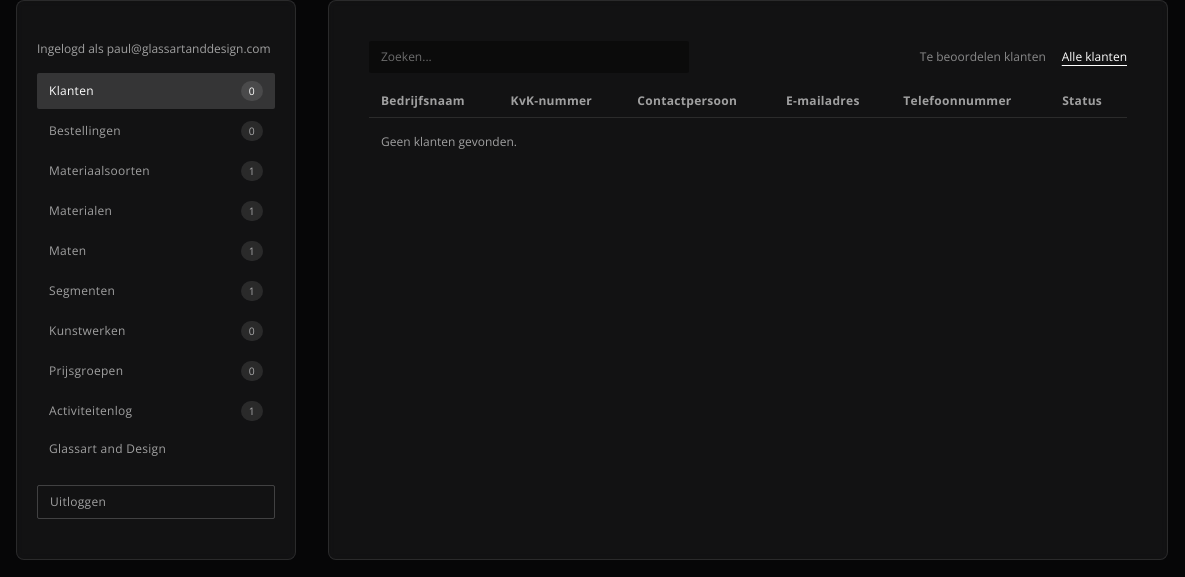
Test case: BeheerShell › shows the Activiteit section with the loaded count on its nav item
Click the button with test id "beheer-nav-activiteit" at (156, 411), box [37,393,275,429]
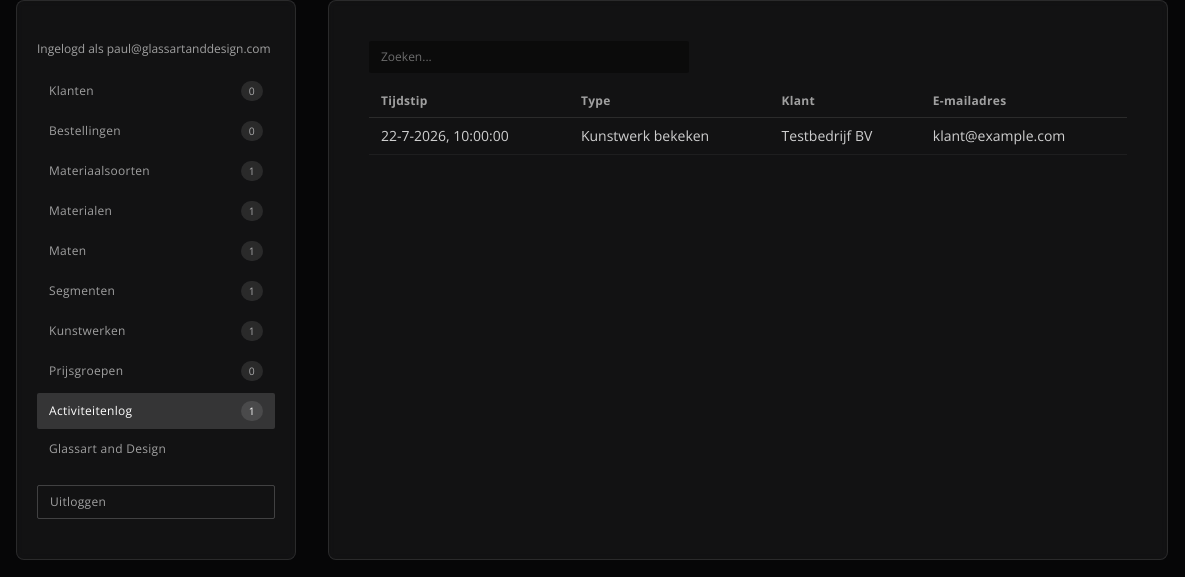
Expected: the element with test id "activiteit-section" is shown, [369,41,1127,155]
Expected: the row with test id "data-table-row-log-1" shows "Kunstwerk bekeken", [581,126,709,145]
